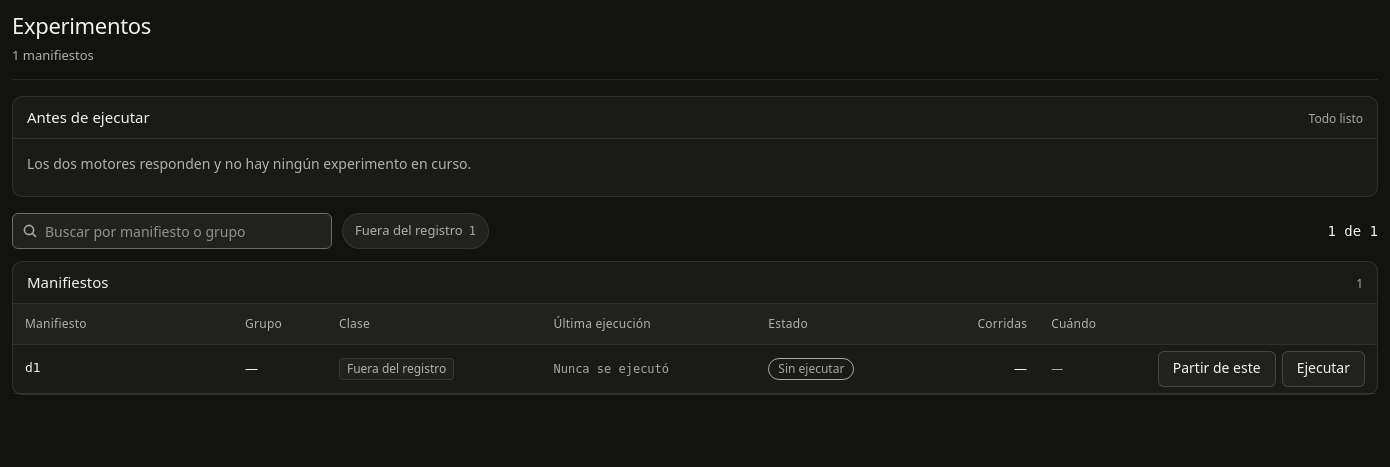
Test: ExperimentsPage › muestra el detalle del 503 si el gate del BFF rechaza el lanzamiento
Expected: the text "d1" is shown, [25,360,41,375]
Click the button "Ejecutar" at (1323, 368), box [1282,350,1365,386]
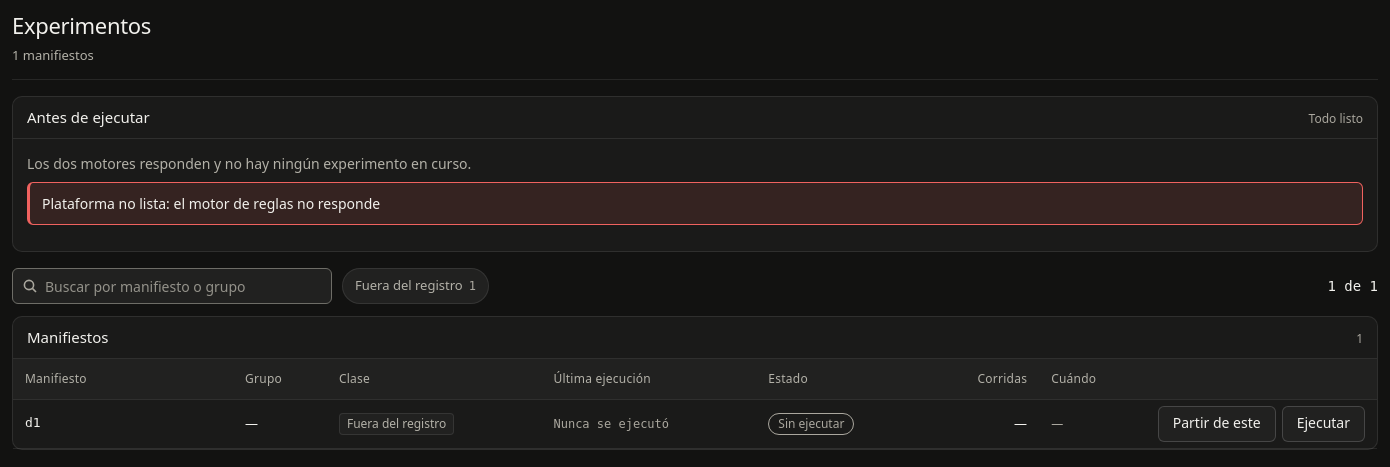
Now the text "Plataforma no lista: el motor de reglas no responde" is shown, box [42,194,380,213]
